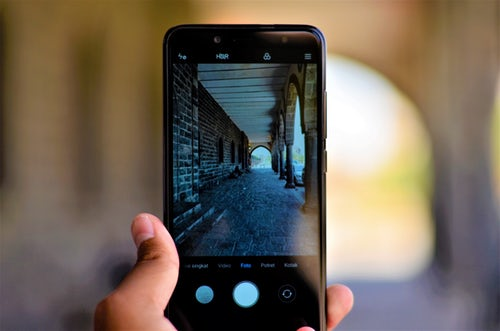phone: (160, 24, 329, 331)
